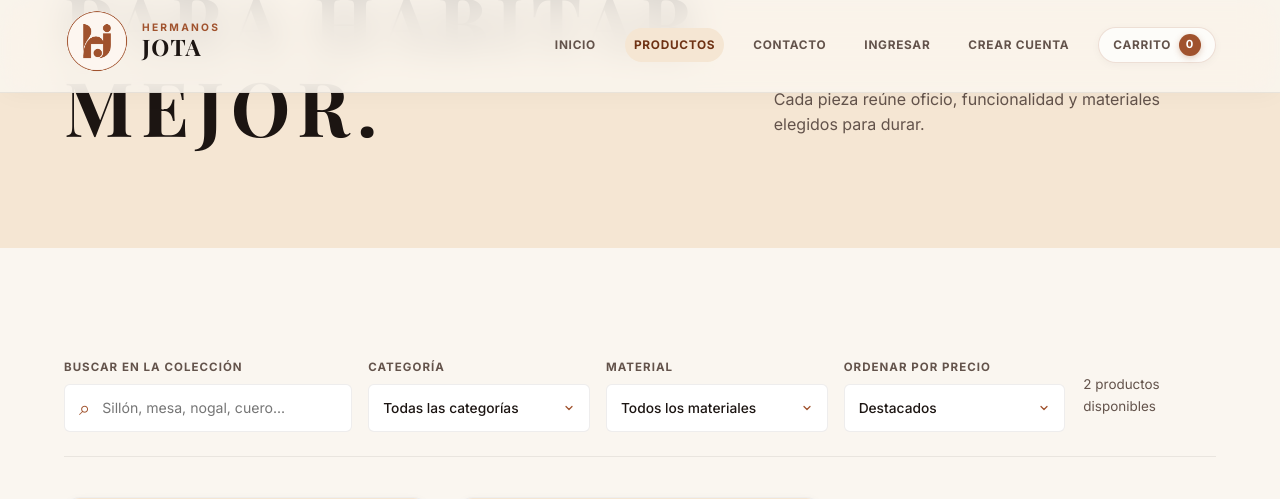
Test case: filtra el catálogo por categoría
(page scrolled)
Select "Muebles" in the dropdown labelled "Categoría" at {"x": 479, "y": 408}, box [368, 384, 590, 432]
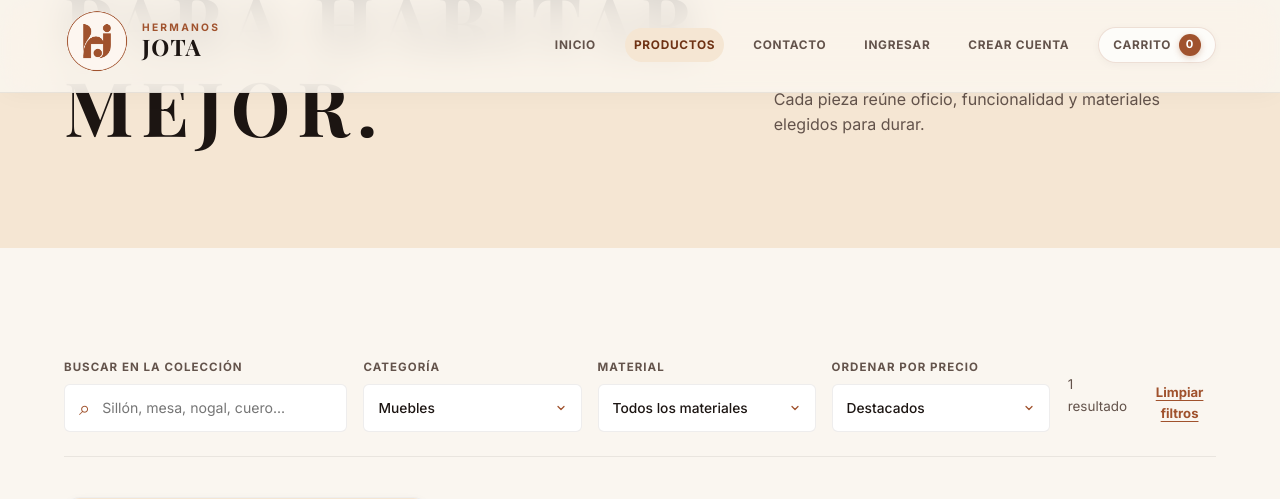
Check: the text "1 resultado" is shown, box [1068, 374, 1127, 432]
